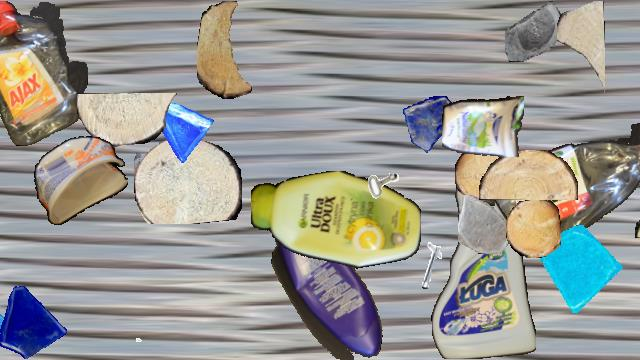glass: (539, 225, 627, 313), (0, 281, 69, 359), (144, 94, 214, 164), (505, 1, 565, 61), (458, 195, 516, 253), (403, 96, 459, 152), (0, 279, 16, 359)
metal: (347, 143, 407, 203), (407, 242, 463, 298), (111, 311, 149, 349)
plastic: (431, 169, 535, 359), (493, 120, 640, 238), (268, 217, 388, 359), (251, 171, 421, 271), (0, 1, 87, 145), (34, 136, 128, 226), (442, 92, 524, 156)
wood: (134, 136, 242, 224), (197, 1, 257, 99), (77, 93, 177, 147), (479, 150, 577, 200), (557, 1, 605, 97), (506, 200, 560, 258), (455, 146, 505, 206), (635, 205, 640, 241)
